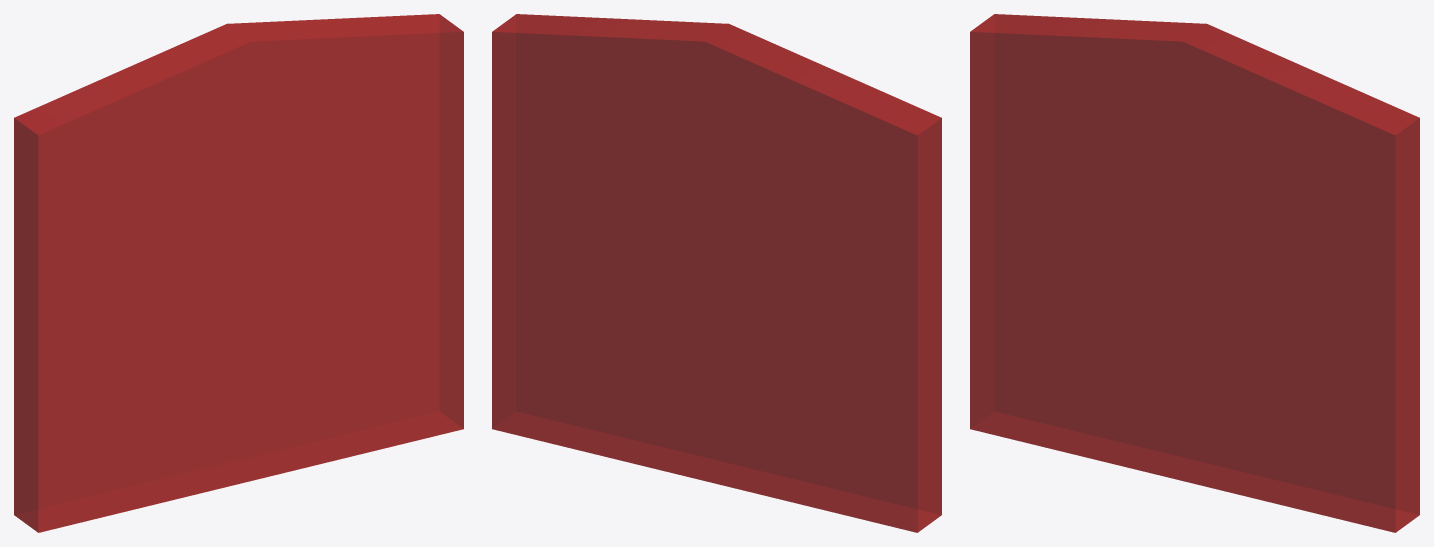
Rendered from SM_Prop_Gate_Small_Door_01_Collision.fbx.
3 renders of one model, left to right at view 1: azimuth 30°, elevation 25°; view 2: azimuth 150°, elevation 25°; view 3: azimuth 330°, elevation 25°, orthographic.
Parts seen in each view (by area): view 1: SM_Prop_Gate_Small_Door_01_Collision; view 2: SM_Prop_Gate_Small_Door_01_Collision; view 3: SM_Prop_Gate_Small_Door_01_Collision.
Boxes of the visible parts, left/top/right/bottom form: SM_Prop_Gate_Small_Door_01_Collision: left=14, top=14, right=463, bottom=532; SM_Prop_Gate_Small_Door_01_Collision: left=492, top=14, right=941, bottom=532; SM_Prop_Gate_Small_Door_01_Collision: left=970, top=14, right=1419, bottom=532.
Size of the model in its own units: 117 by 116 by 11.63.
